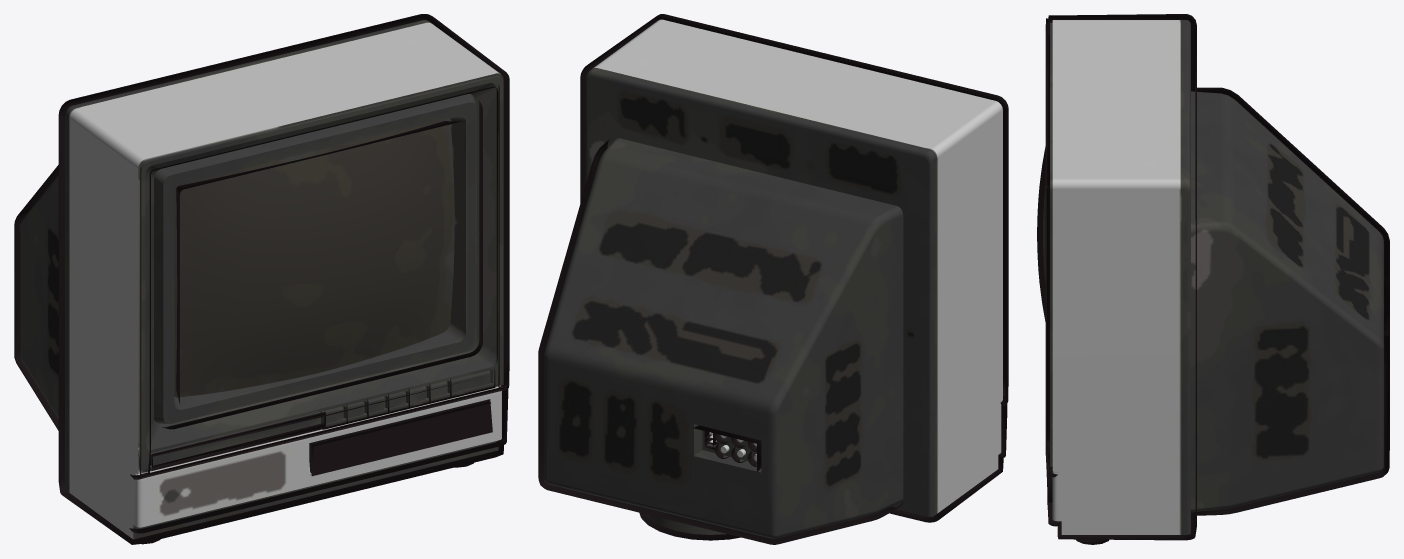
Rendered from SM_Int_TVB.fbx.
The picture shows the model from 3 angles, left to right: view 1: azimuth 30°, elevation 25°; view 2: azimuth 150°, elevation 25°; view 3: azimuth 270°, elevation 25°; orthographic projection. The views are drawn at different scales.
Parts seen in each view (by area): view 1: SM_Int_TVB; view 2: SM_Int_TVB; view 3: SM_Int_TVB.
Part boxes in pixels (box(x1,y1,x2,y2)): SM_Int_TVB: box(14, 14, 509, 544); SM_Int_TVB: box(538, 14, 1008, 544); SM_Int_TVB: box(1037, 14, 1389, 544).
Size of what is drawn, in the model's own units: 0.4117 by 0.4234 by 0.3622.
